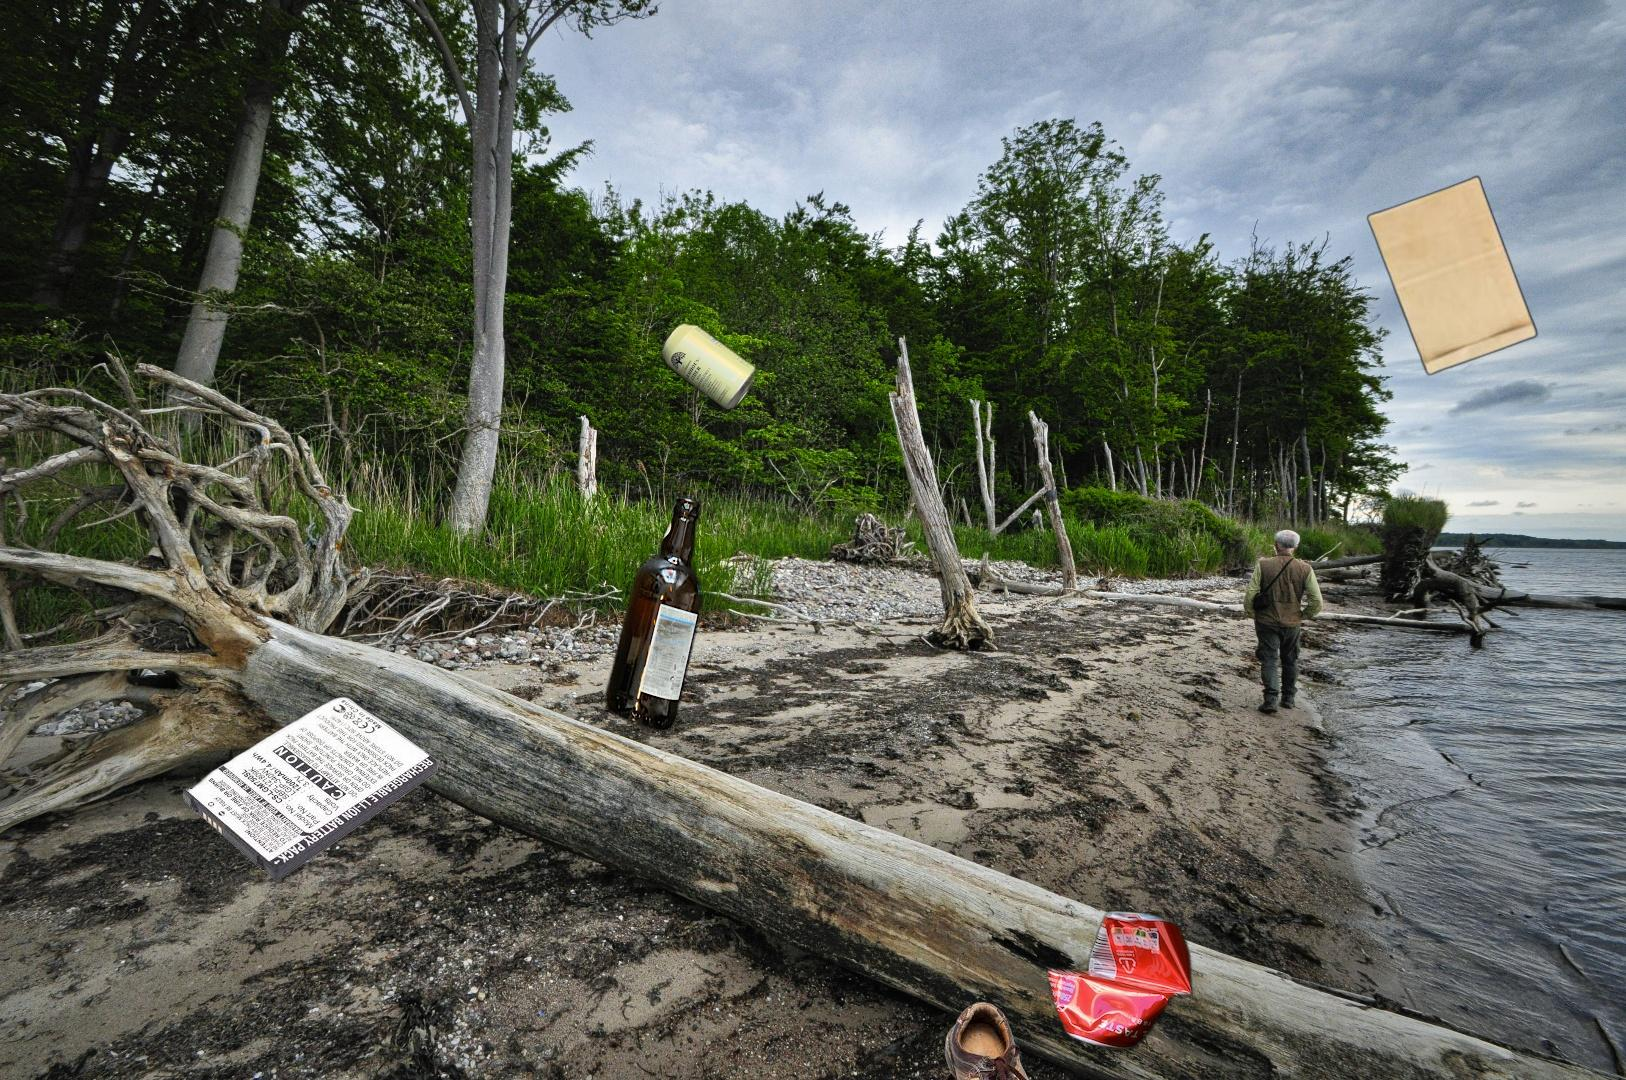battery: (180, 694, 441, 881)
glass: (297, 139, 706, 796)
metal-cans: (1041, 904, 1197, 1056), (656, 316, 761, 415)
paper-bag: (1252, 174, 1542, 418)
shoes: (882, 999, 1052, 1080)
